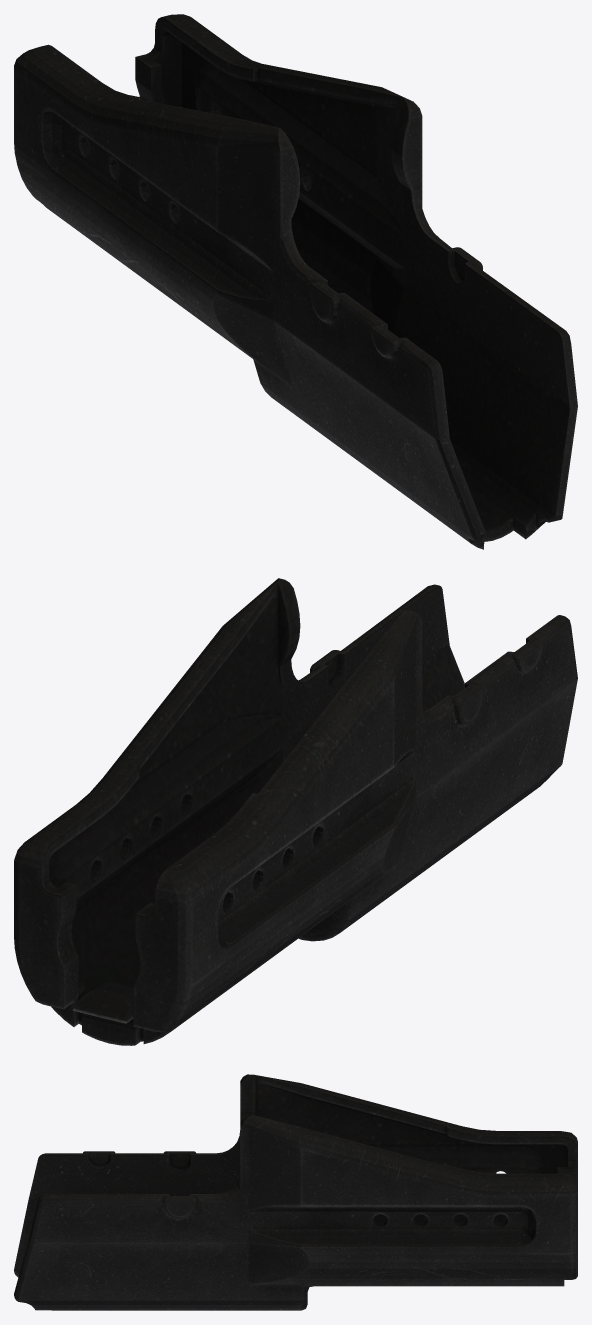
The picture shows the model from 3 angles, top to bottom: view 1: azimuth 30°, elevation 25°; view 2: azimuth 150°, elevation 25°; view 3: azimuth 270°, elevation 25°; orthographic projection. The views are drawn at different scales.
Parts seen in each view (by area): view 1: TW_637ba19df7ca6372bf2613d7_PZ_Import; view 2: TW_637ba19df7ca6372bf2613d7_PZ_Import; view 3: TW_637ba19df7ca6372bf2613d7_PZ_Import.
Part boxes in pixels (x1,y1,x2,y2): TW_637ba19df7ca6372bf2613d7_PZ_Import: (14,14,577,549); TW_637ba19df7ca6372bf2613d7_PZ_Import: (14,578,577,1045); TW_637ba19df7ca6372bf2613d7_PZ_Import: (14,1074,577,1310).
Bounding box in the file's own units: 0.0236 × 0.0975 × 0.0404.
Materials: 1 (1 with a texture image).
